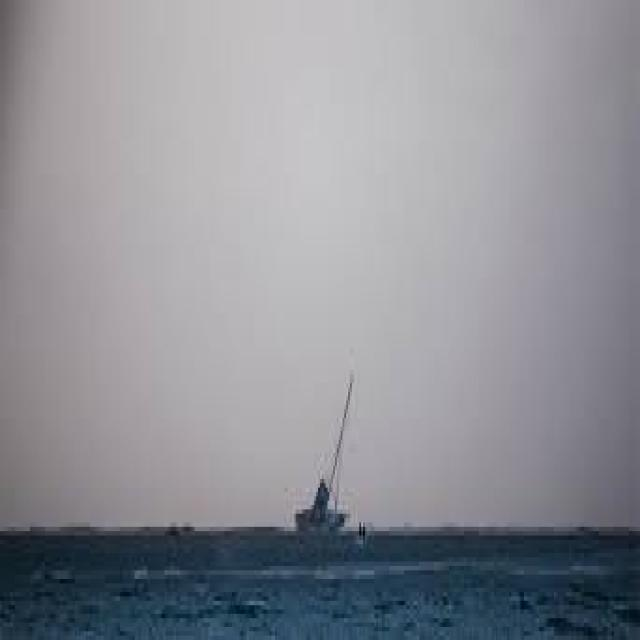fishing boat: (286, 394, 376, 541)
